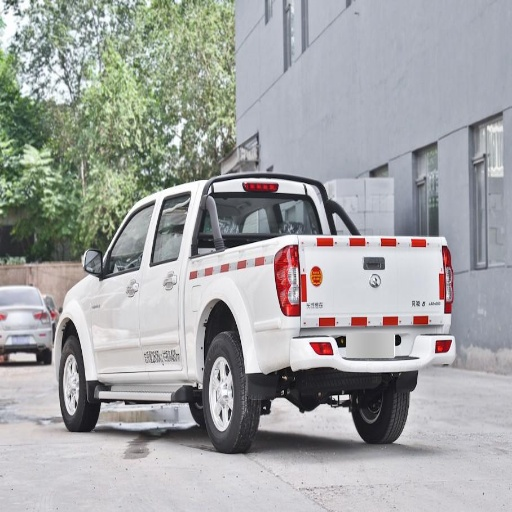back_bumper: (289, 332, 427, 377)
back_glass: (200, 192, 324, 247)
back_left_door: (141, 196, 189, 368)
trunk: (176, 240, 439, 374)
